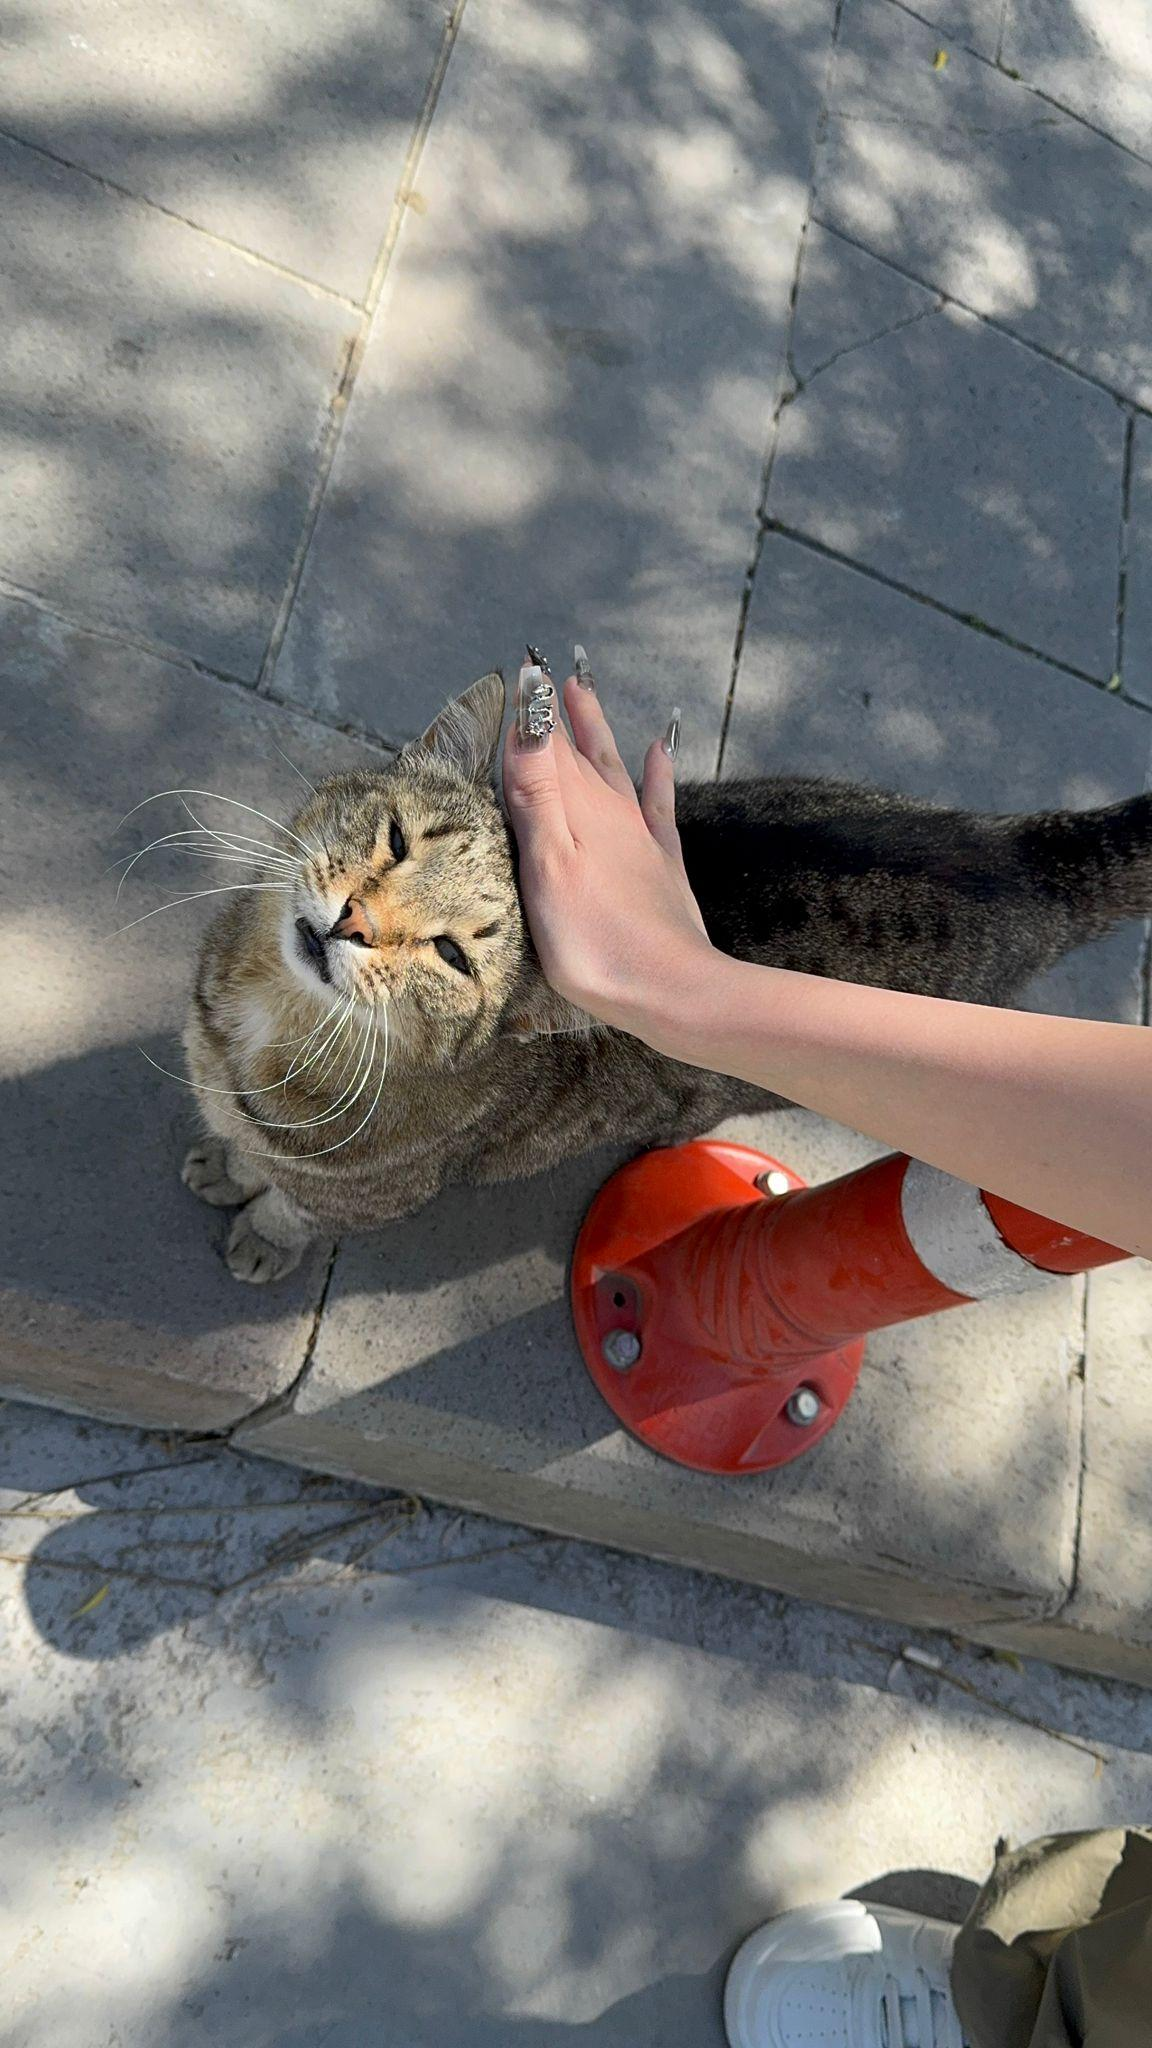kedo: (190, 674, 523, 1274)
